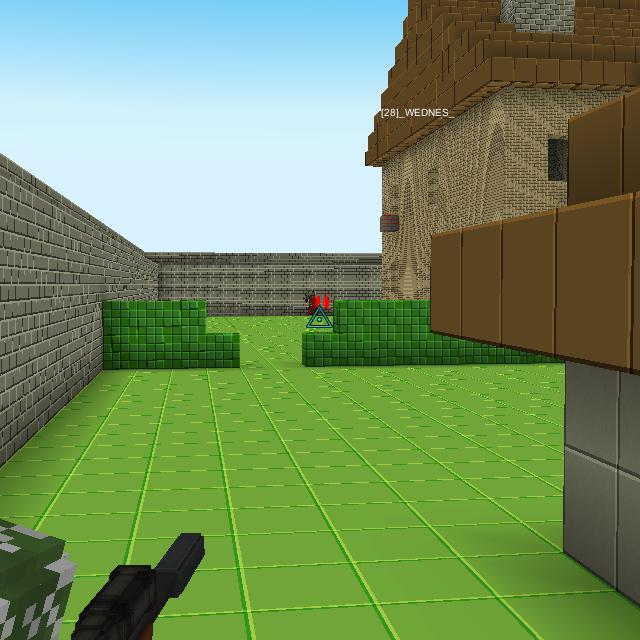enemy: (306, 290, 318, 316)
